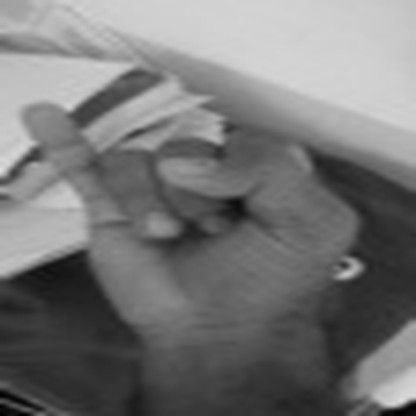i: (18, 95, 366, 331)
